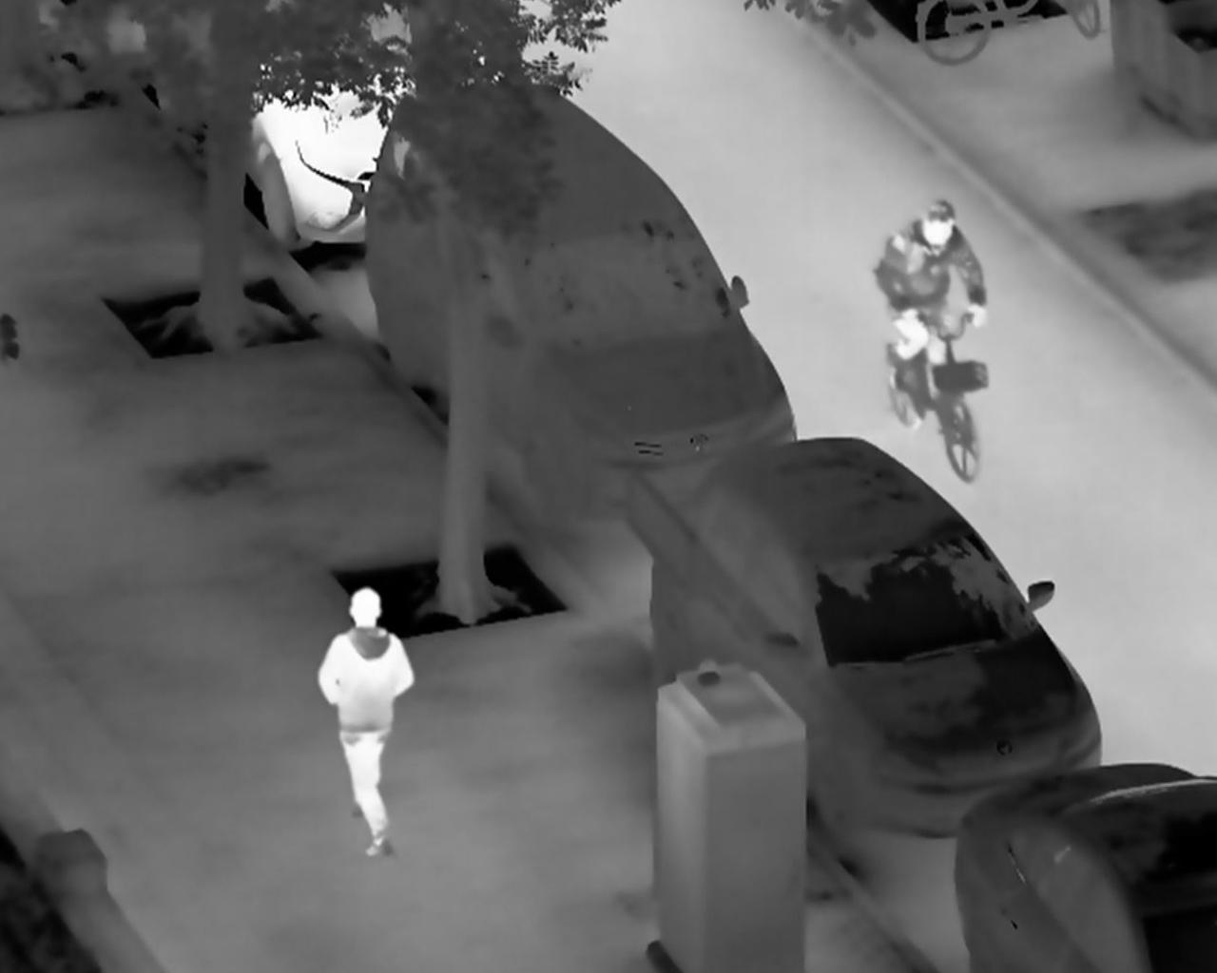person: (316, 584, 419, 861), (872, 200, 990, 379)
